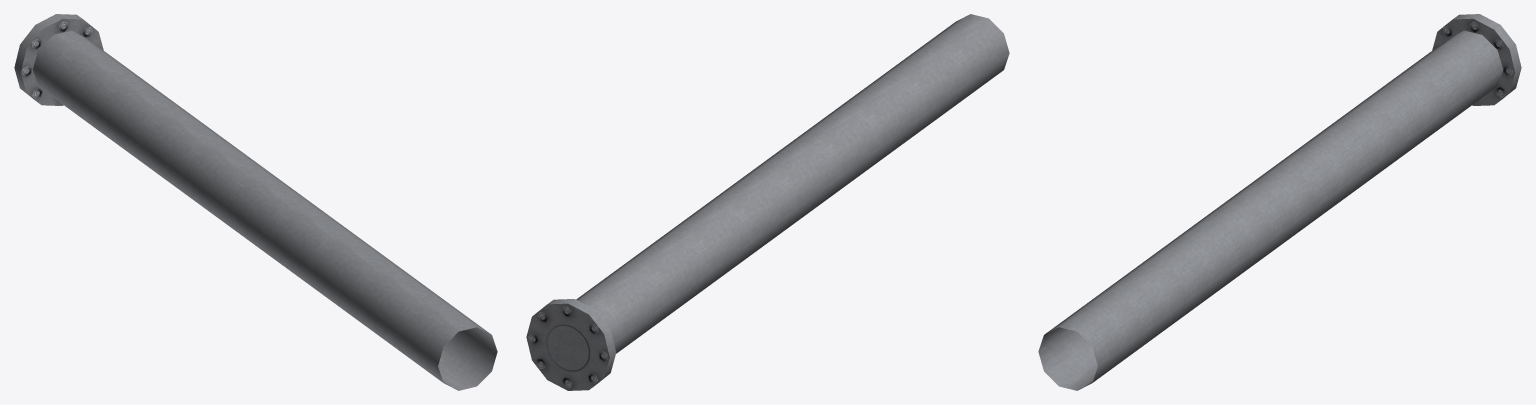
The model's file is p_large_1_cap.FBX.
3 views of the same model, side by side, from view 1: azimuth 30°, elevation 25°; view 2: azimuth 150°, elevation 25°; view 3: azimuth 330°, elevation 25° (orthographic).
Visible parts, largest first — view 1: Cylinder032; view 2: Cylinder032; view 3: Cylinder032.
Boxes of the visible parts, left/top/right/bottom form: Cylinder032: left=14, top=14, right=497, bottom=390; Cylinder032: left=526, top=14, right=1009, bottom=390; Cylinder032: left=1038, top=14, right=1521, bottom=390.
Bounding box in the file's own units: 29.97 × 29.97 × 256.
1 material, 1 textured.
